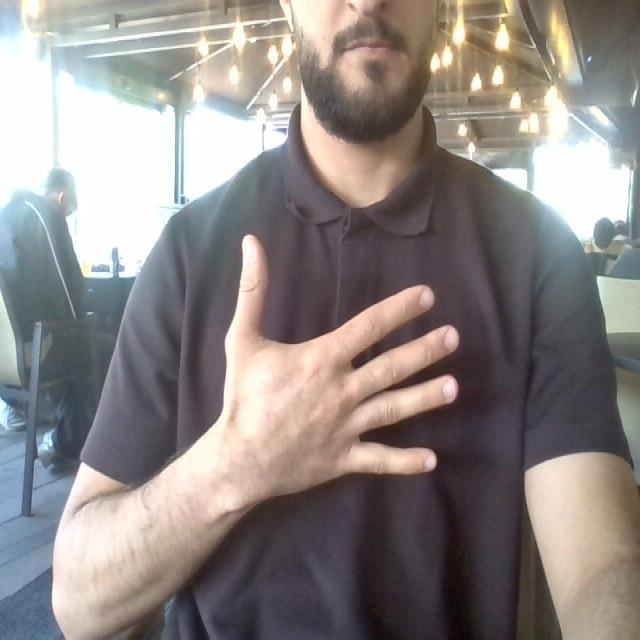Hand: (207, 236, 457, 501)
